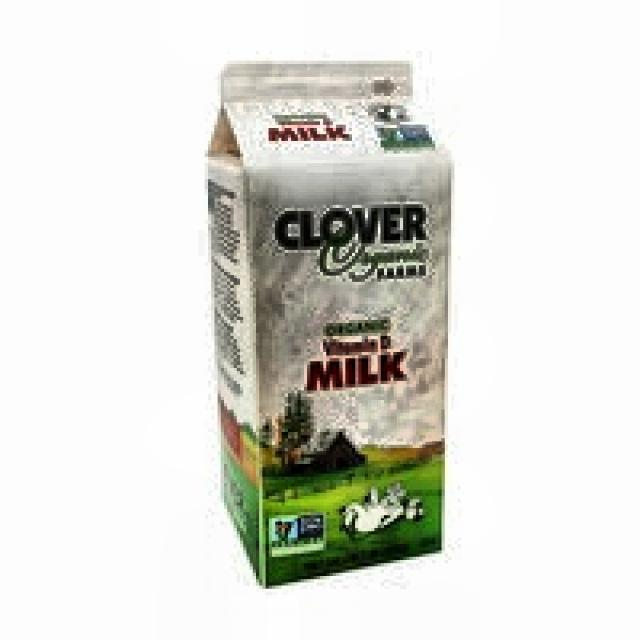cardboard: (204, 58, 452, 586)
